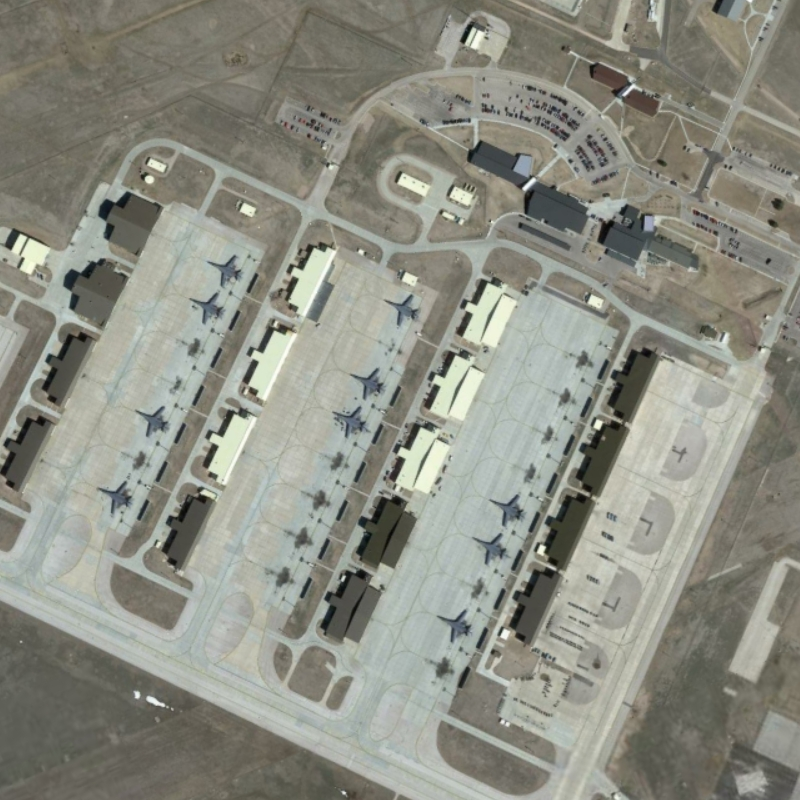A10: (487, 491, 528, 529), (380, 291, 423, 327), (345, 366, 387, 402), (187, 290, 226, 328), (329, 405, 369, 441), (94, 479, 134, 515), (435, 608, 474, 644), (471, 531, 509, 567), (205, 253, 244, 288), (134, 404, 172, 439)
